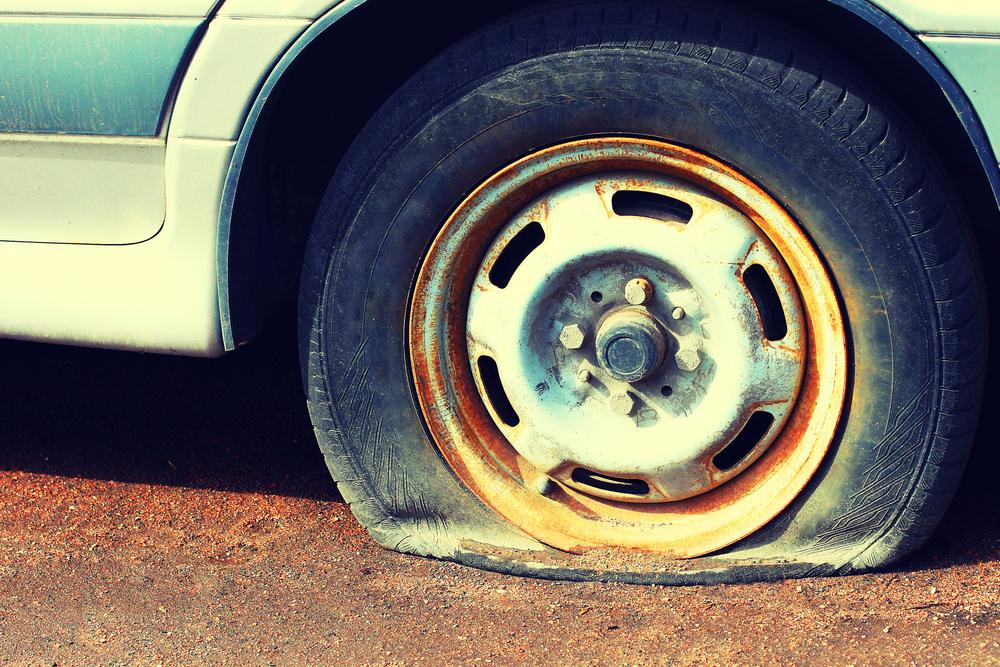tire flat: (298, 0, 984, 584)
